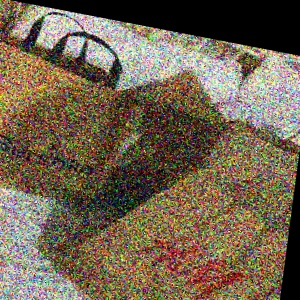bershka: (90, 83, 118, 211)
